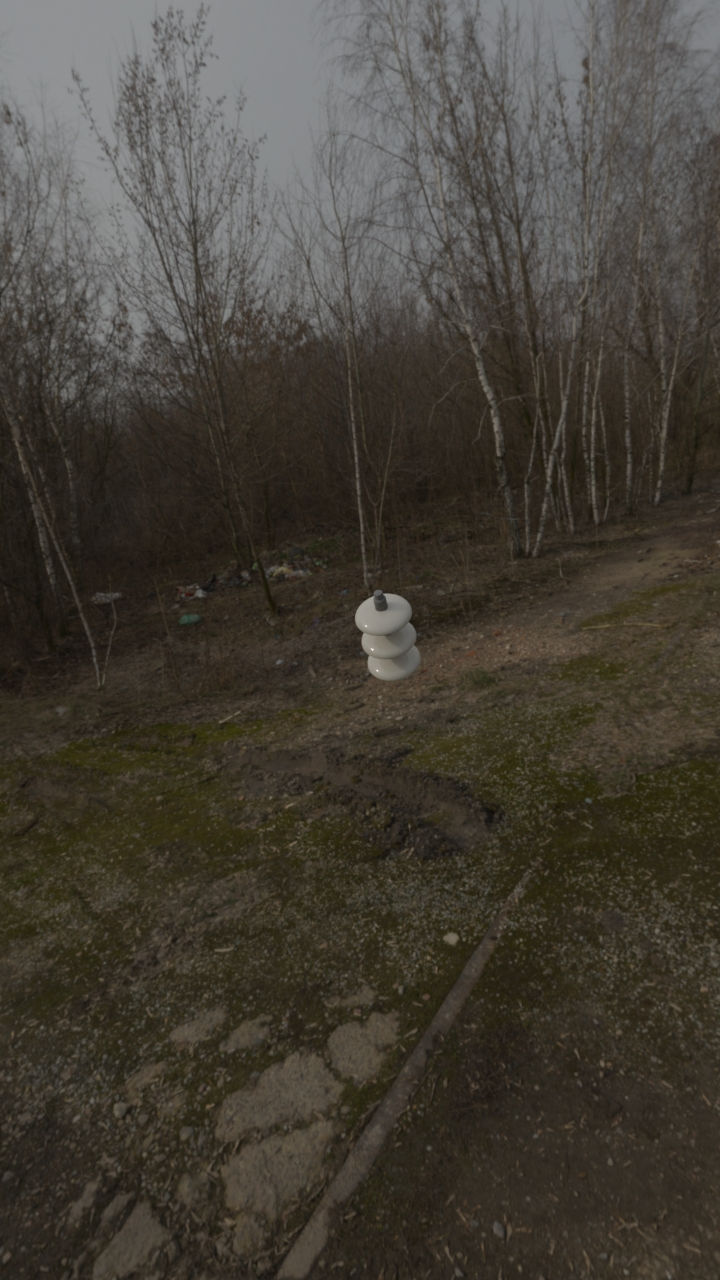ceramicinsulators: (355, 589, 420, 682)
